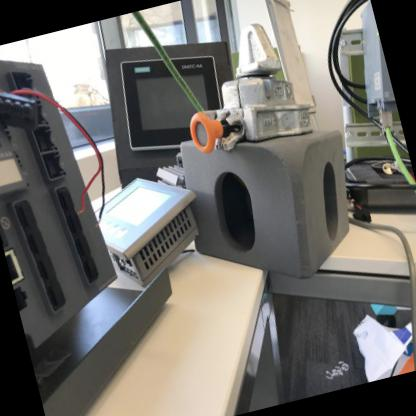CornerCasting: (170, 101, 376, 304)
Twistlock: (170, 14, 322, 164)
